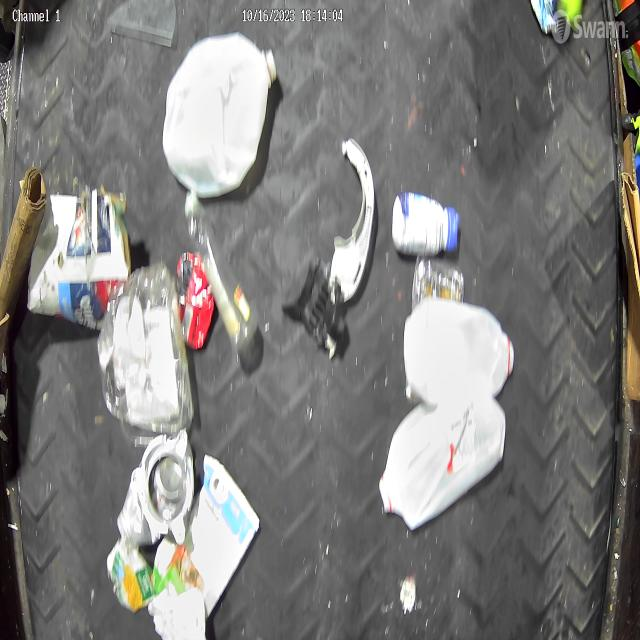can: (140, 438, 194, 527)
milk_jug: (162, 31, 276, 198), (378, 397, 506, 532), (402, 296, 515, 402)
plastic_bottle: (183, 188, 260, 354)
